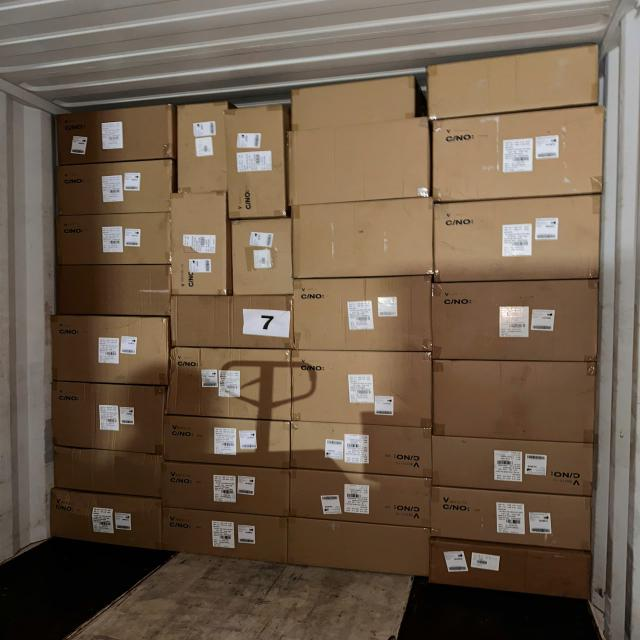Carton: (435, 107, 607, 202), (428, 201, 602, 289), (434, 274, 604, 362), (428, 358, 595, 444), (428, 481, 597, 554), (424, 44, 597, 114), (291, 196, 437, 276), (297, 121, 434, 205), (299, 351, 438, 432), (291, 277, 436, 354), (427, 433, 596, 497), (426, 540, 592, 604), (167, 343, 295, 418), (46, 485, 167, 558), (49, 380, 165, 456), (50, 316, 170, 389), (295, 519, 435, 581), (288, 469, 434, 527), (289, 420, 435, 476), (162, 505, 292, 567), (162, 414, 292, 473), (162, 462, 294, 520), (168, 293, 294, 351), (50, 443, 166, 504), (55, 106, 173, 165), (294, 75, 419, 128), (226, 104, 283, 218), (54, 163, 172, 217), (172, 192, 232, 298), (54, 212, 172, 265), (54, 264, 172, 316), (232, 220, 294, 298), (179, 104, 228, 194)
